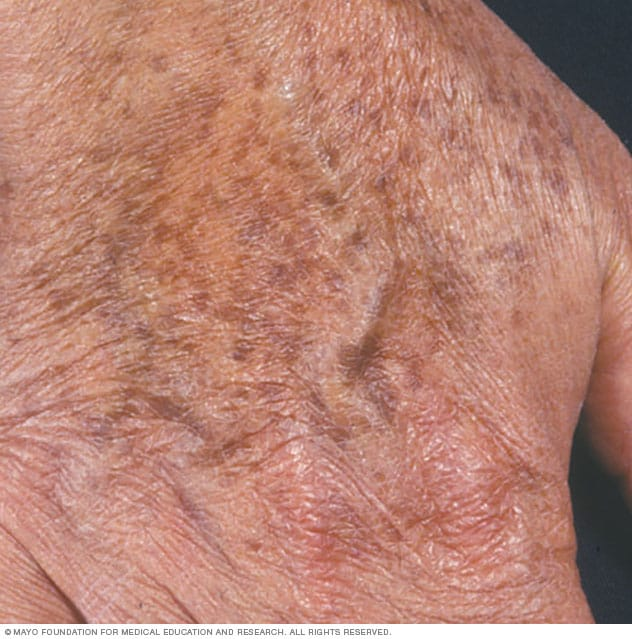DARK_SPOTS: (370, 112, 482, 247), (146, 154, 266, 260), (510, 111, 567, 241), (231, 296, 287, 359)
WRINKLES: (70, 473, 213, 604), (390, 135, 493, 315), (313, 288, 406, 439)
